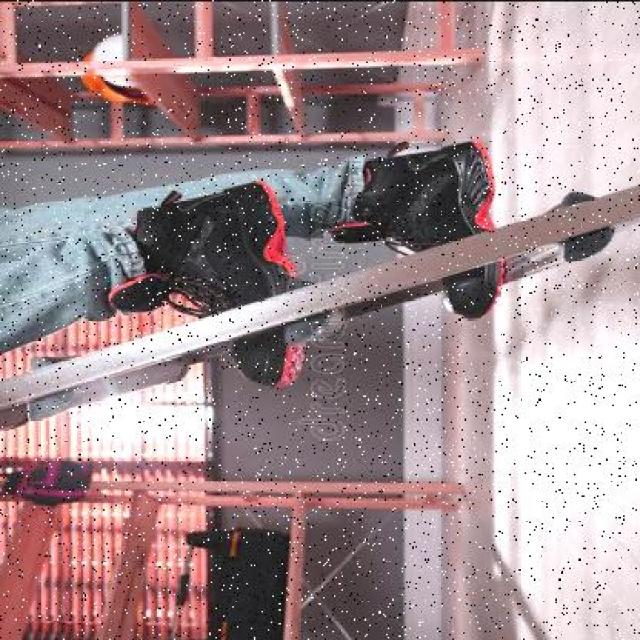shoes: (145, 184, 300, 388), (343, 144, 500, 307)
